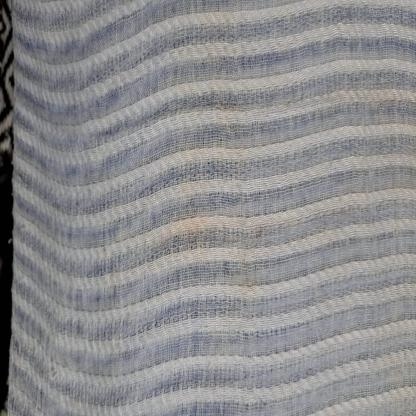spot: (136, 5, 410, 353)
